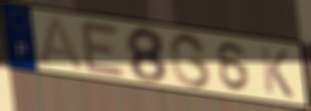6: (215, 40, 253, 93)
8: (123, 25, 171, 85)
A: (37, 15, 86, 73)
E: (77, 18, 128, 79)
G: (168, 31, 214, 90)
K: (258, 44, 296, 100)
